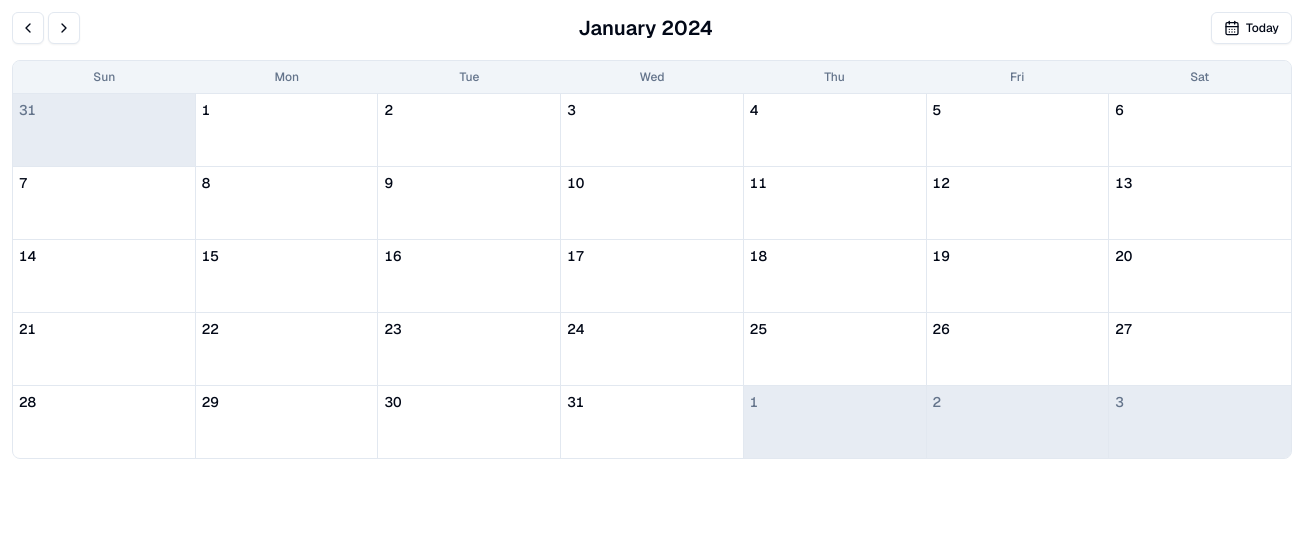
Test case: Calendar › shows Today button that navigates to current date
Expected: the heading "January 2024" is shown, [578, 14, 713, 42]
Step 1. Click the button "Today" → (1251, 28), box [1211, 12, 1292, 44]
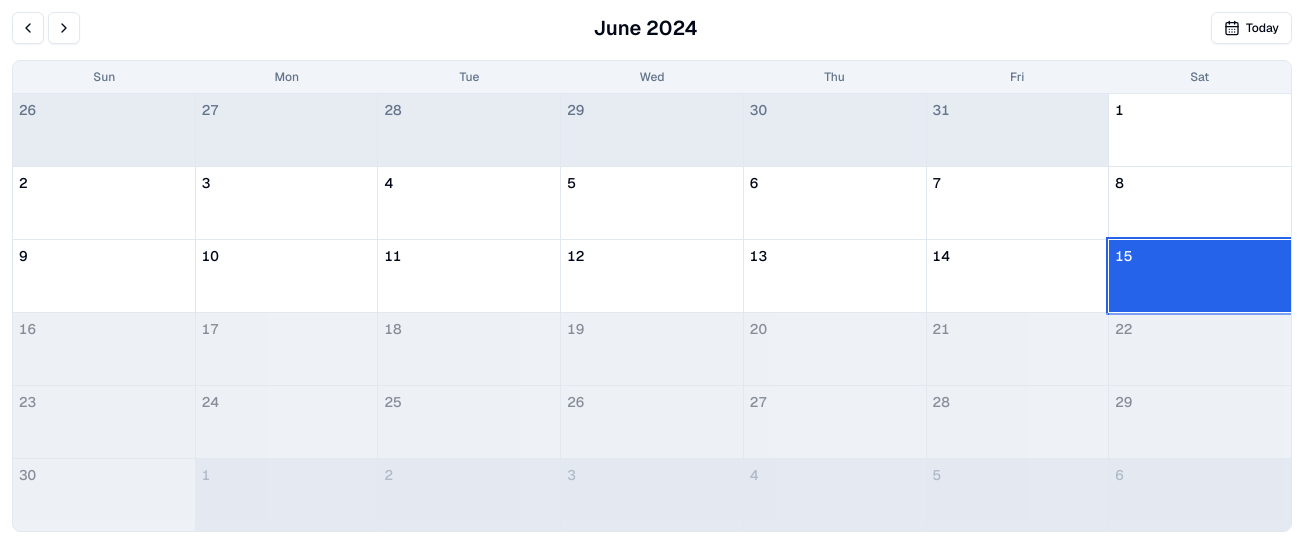
Expected: the heading "June 2024" is shown, [593, 14, 698, 42]
